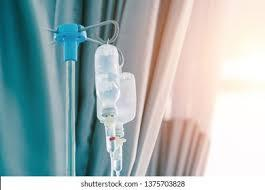Iv_Bottle: (95, 44, 119, 118)
